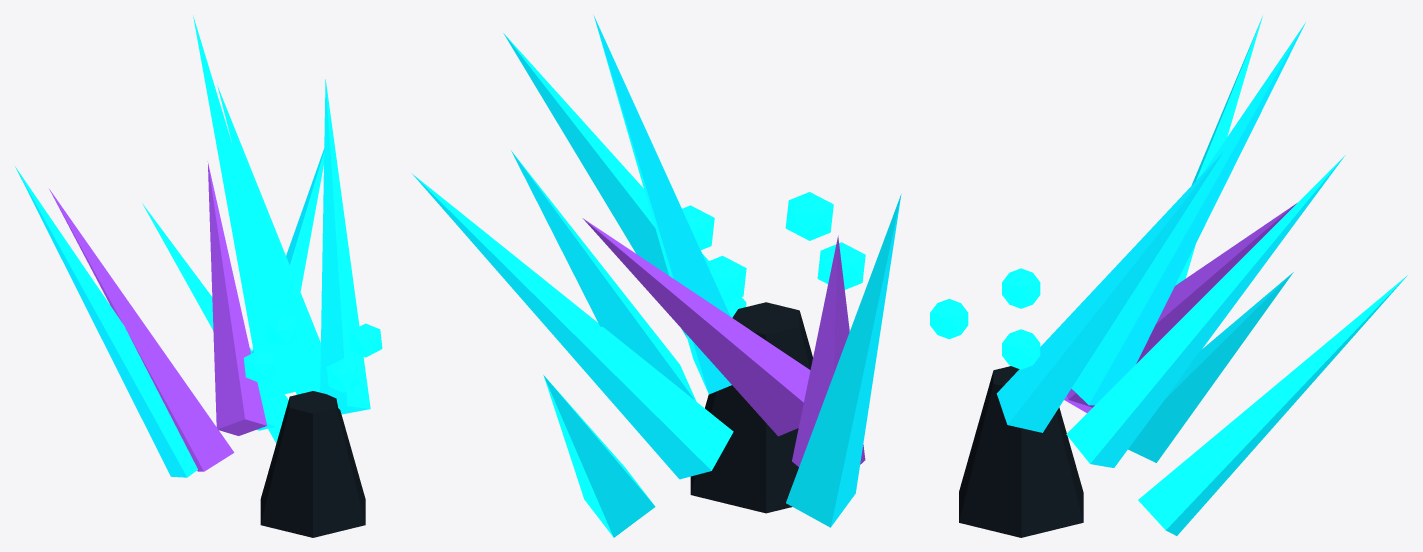
File: alien_crystal_fern.glb
The picture shows the model from 3 angles, left to right: view 1: azimuth 30°, elevation 25°; view 2: azimuth 150°, elevation 25°; view 3: azimuth 270°, elevation 25°; orthographic projection. The views are drawn at different scales.
Parts seen in each view (by area): view 1: alien_crystal_fern; view 2: alien_crystal_fern; view 3: alien_crystal_fern.
Boxes of the visible parts, bbox=[...] form: alien_crystal_fern: bbox=[15, 15, 382, 537]; alien_crystal_fern: bbox=[412, 15, 901, 537]; alien_crystal_fern: bbox=[930, 16, 1407, 537].
Size of the model in its own units: 0.5621 by 0.6784 by 0.5984.
